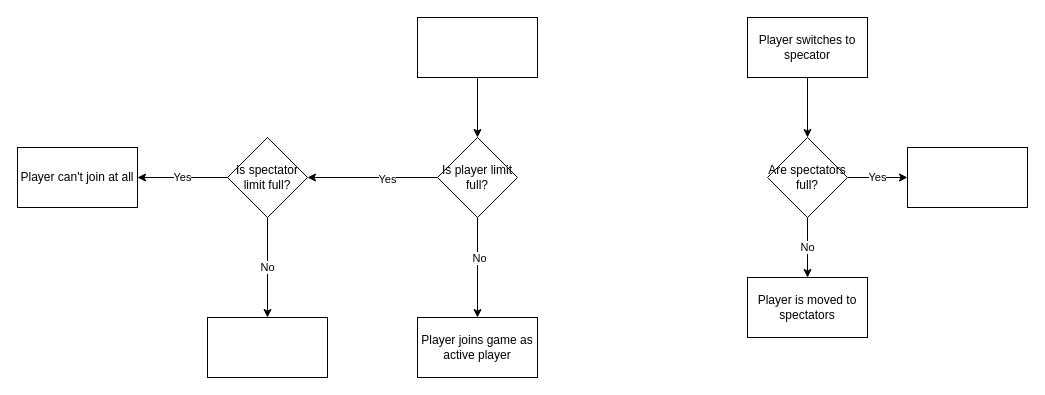
This 1045x395 diagram has some shape labels left out. Here are the shapes that lost their labels. From the top down, the centre of each, then its label:
At [477,47]: "Player joins".
At [967,177]: "Player can choose to leave game completely".
At [267,347]: "Player joins as spectator".
